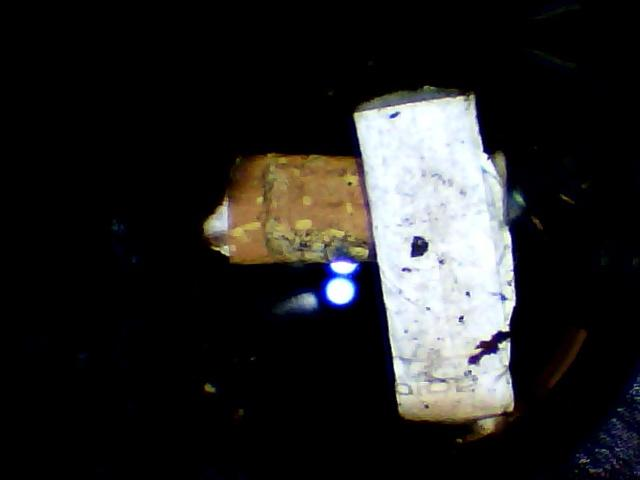megot: (329, 68, 552, 447), (164, 128, 572, 290)
